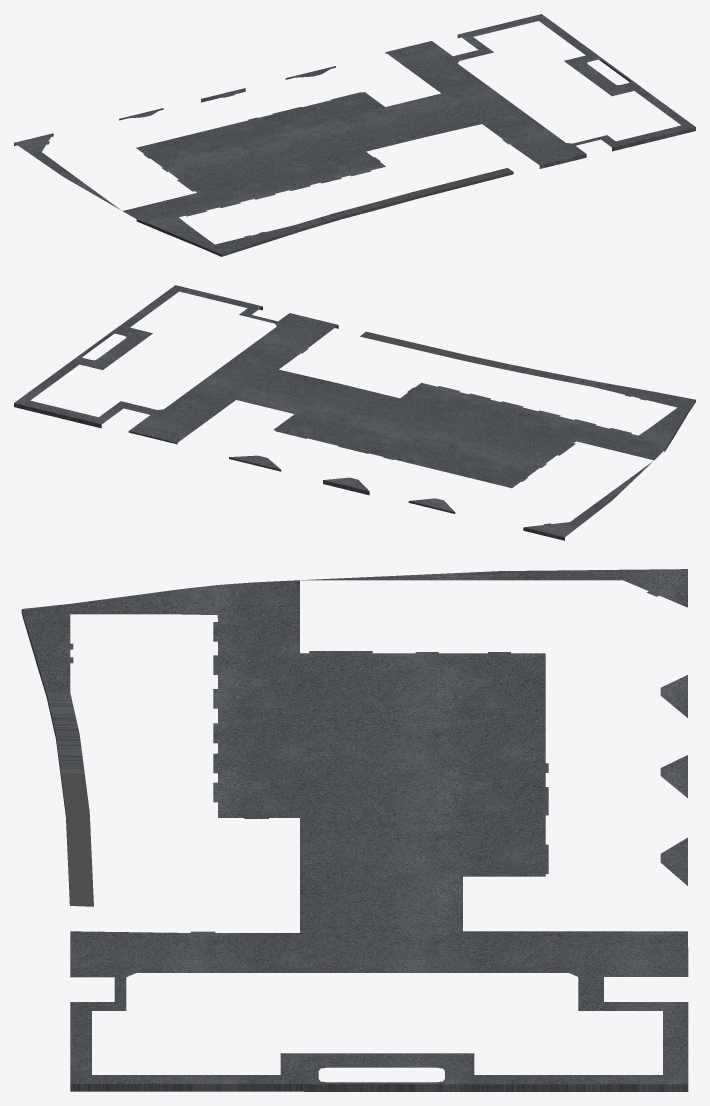
File: gaz20_law.obj
3 renders of one model, top to bottom at view 1: azimuth 30°, elevation 25°; view 2: azimuth 150°, elevation 25°; view 3: azimuth 270°, elevation 25°, orthographic. The views are drawn at different scales.
Visible parts, largest first — view 1: gaz20_law; view 2: gaz20_law; view 3: gaz20_law.
Part boxes in pixels (left/top/right/bottom): gaz20_law: left=14, top=14, right=695, bottom=256; gaz20_law: left=14, top=285, right=695, bottom=540; gaz20_law: left=21, top=569, right=688, bottom=1091.
Size of the model in its own units: 125 by 1.39 by 68.43.
